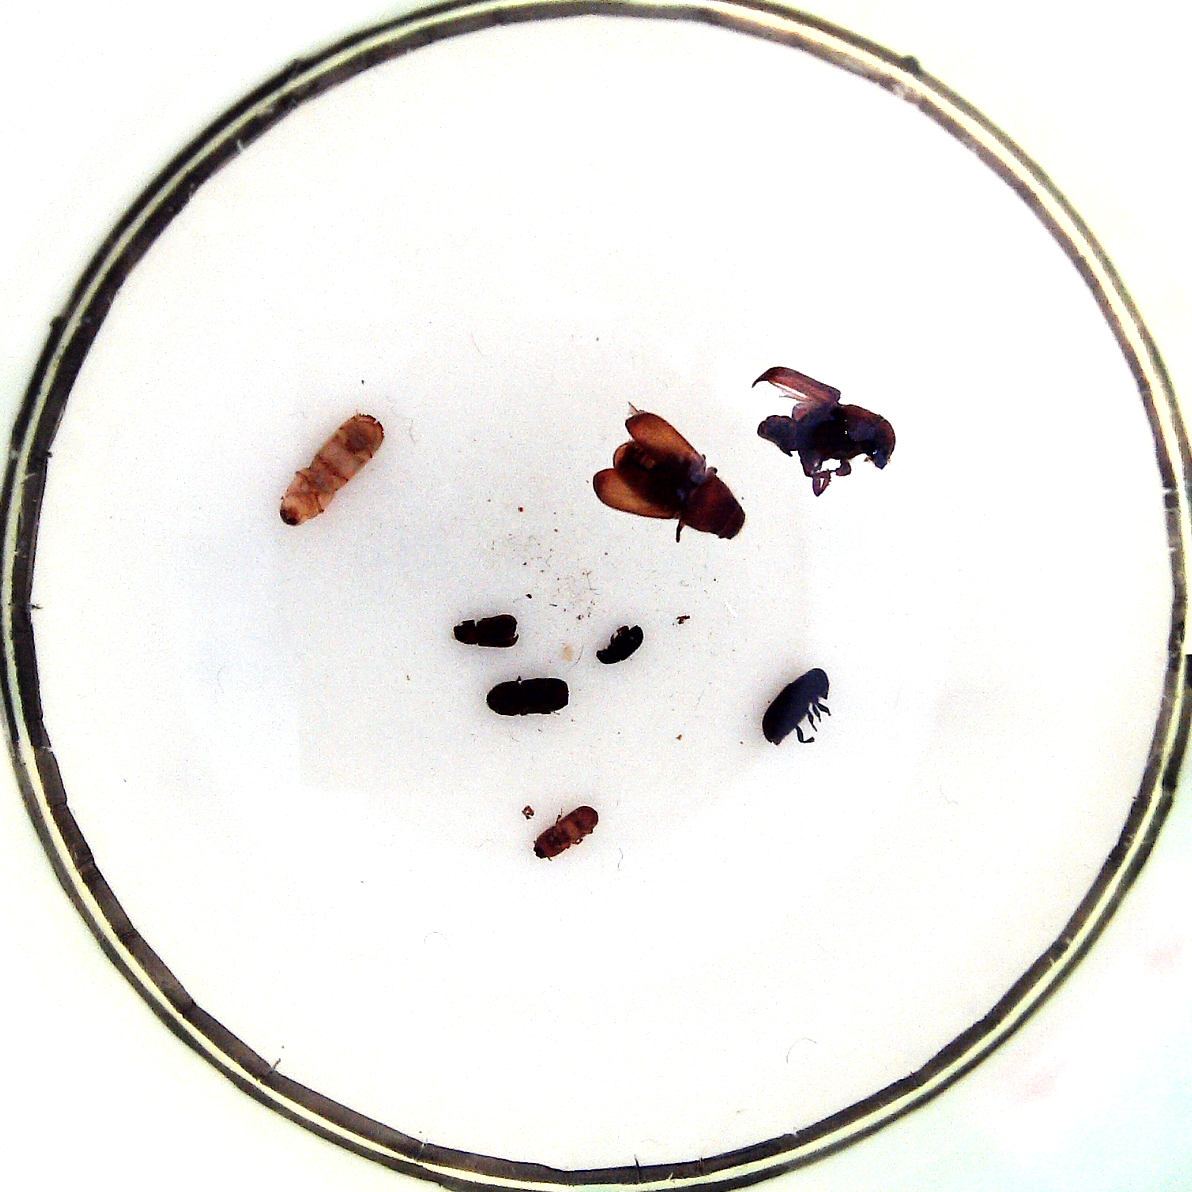Boerner: (278, 413, 385, 526)
Leconte: (613, 441, 746, 539), (756, 402, 896, 470)
acuminatus: (453, 616, 518, 648), (597, 625, 642, 664)
armandi: (762, 668, 830, 744)
coleoptera: (533, 804, 598, 859)
linnaeus: (486, 678, 569, 715)
